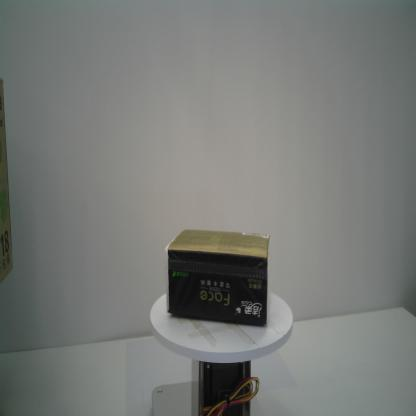Tissue: (165, 228, 271, 327)
